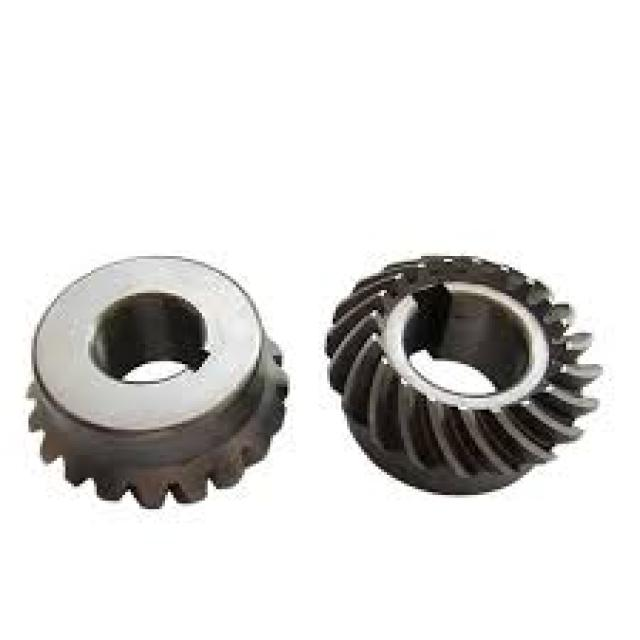Turning: (13, 225, 311, 536), (321, 225, 615, 537)
